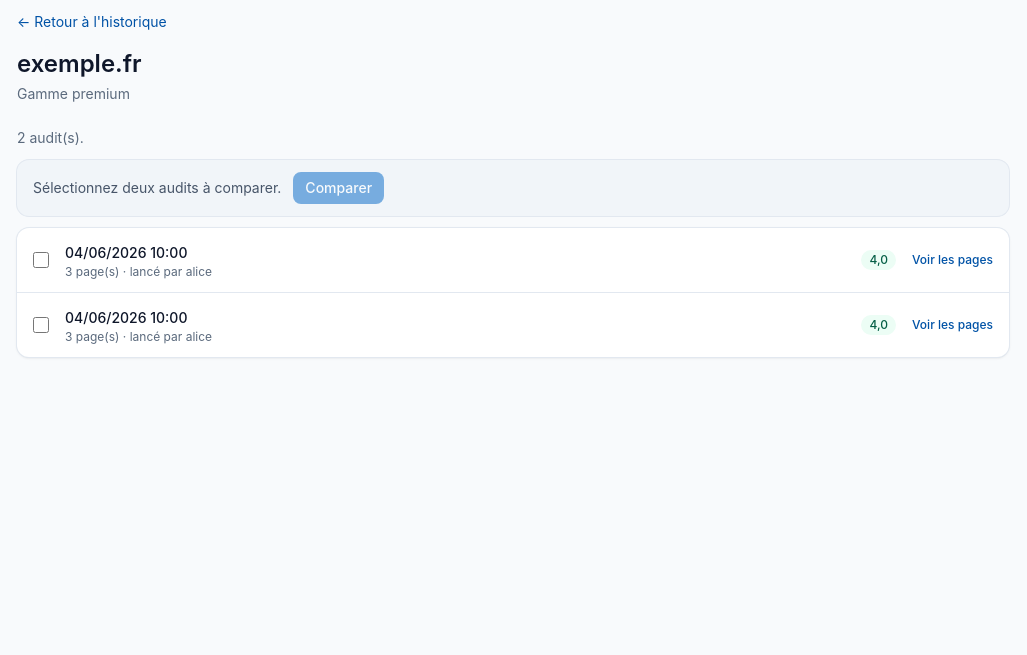
Scenario: SiteSessionsComponent › comparaison › efface la sélection ET le résultat
The image size is (1027, 655).
Click the 1st checkbox labelled "04/06/2026 10:00 3 page(s) · lancé par alice" at (41, 260), box [33,252,49,268]
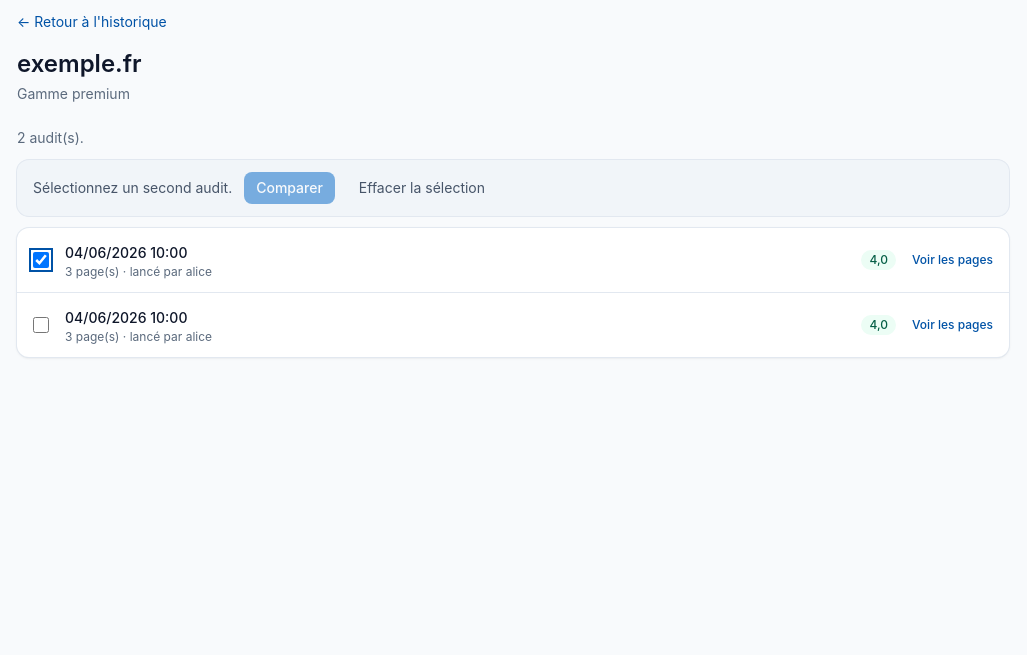
Click the 2nd checkbox labelled "04/06/2026 10:00 3 page(s) · lancé par alice" at (41, 325), box [33,317,49,333]
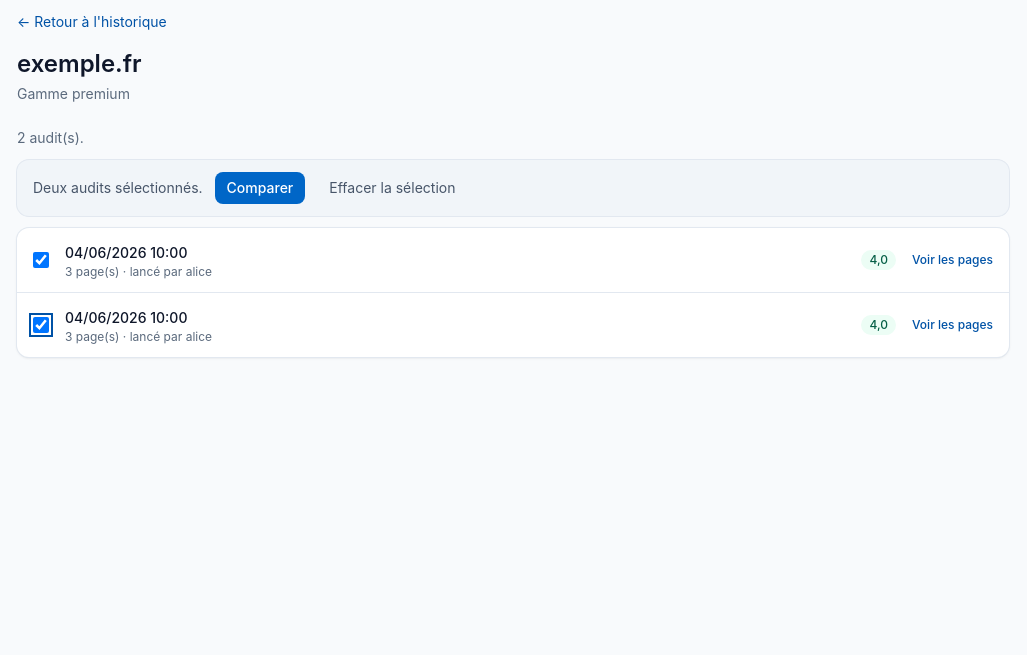
Click the button "Comparer" at (260, 188), box [215,172,305,204]
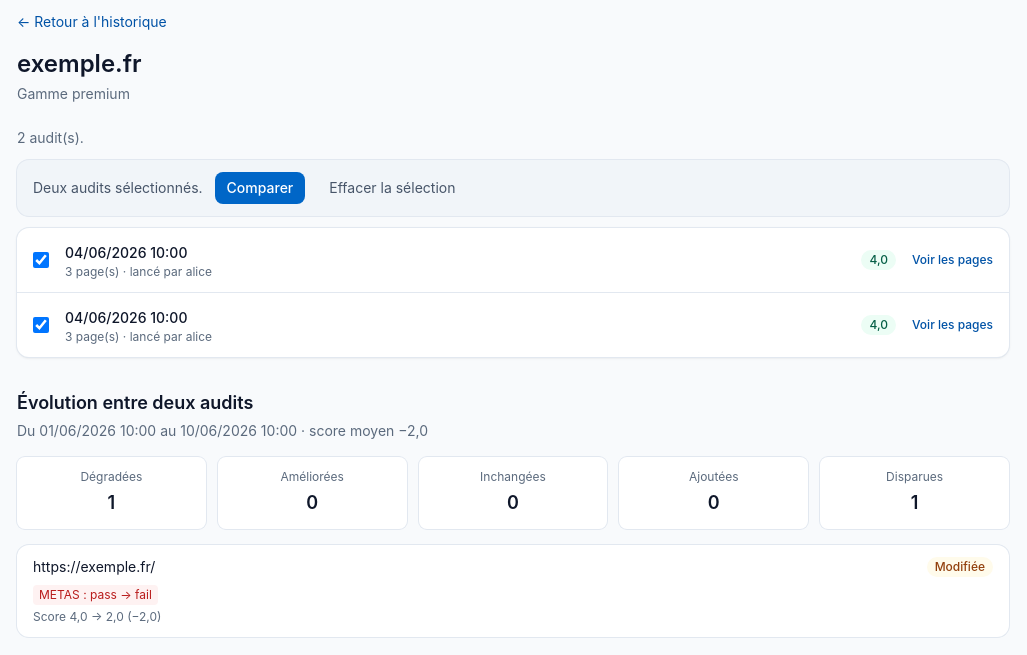
Click the button "Effacer la sélection" at (392, 188), box [317,172,468,204]
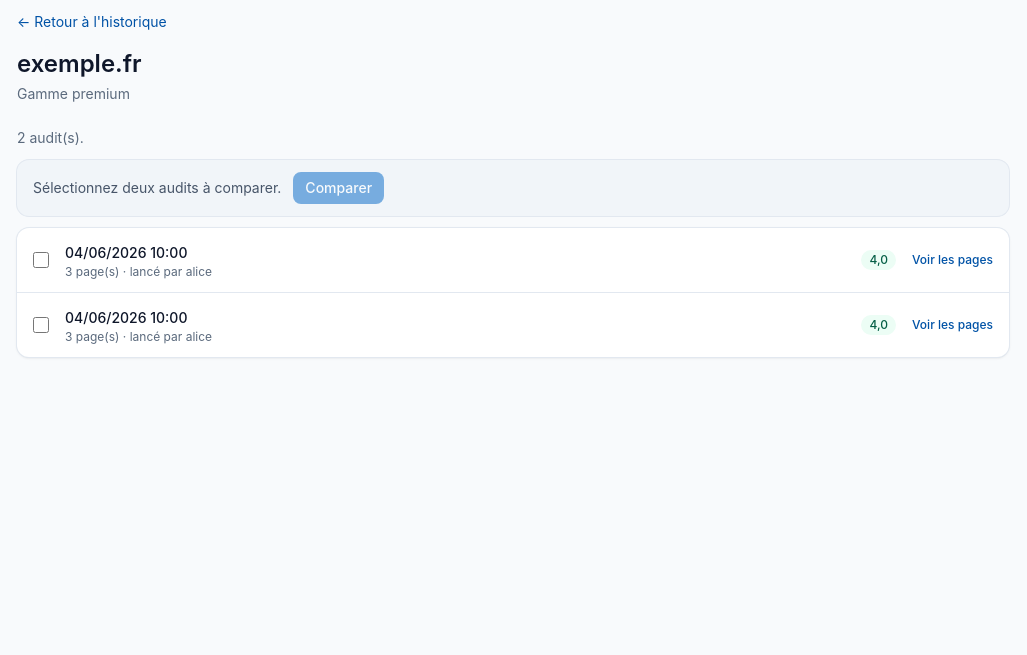
Now the heading "Évolution" is gone
Now the text "Sélectionnez deux audits à comparer." is shown, box [33,178,281,198]
